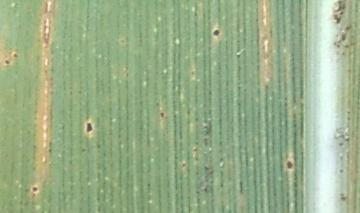tarspot: (83, 117, 97, 139), (283, 155, 297, 172), (337, 190, 349, 203), (29, 182, 41, 194), (211, 28, 222, 39), (337, 140, 346, 149), (159, 110, 167, 120), (338, 166, 346, 174), (3, 59, 11, 66), (12, 50, 19, 58)
